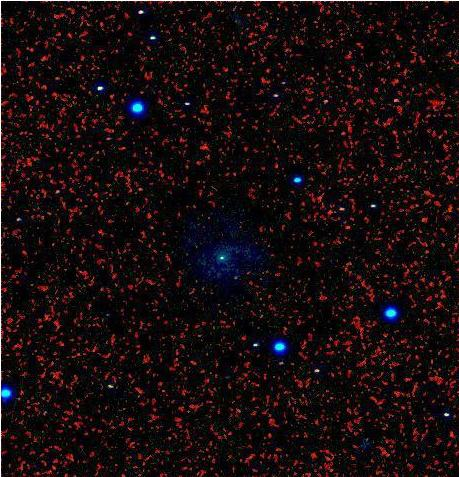star: (220, 261, 250, 291)
